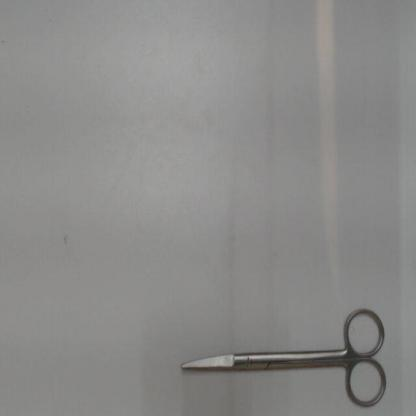Curved Mayo Scissors: (171, 304, 395, 413)
